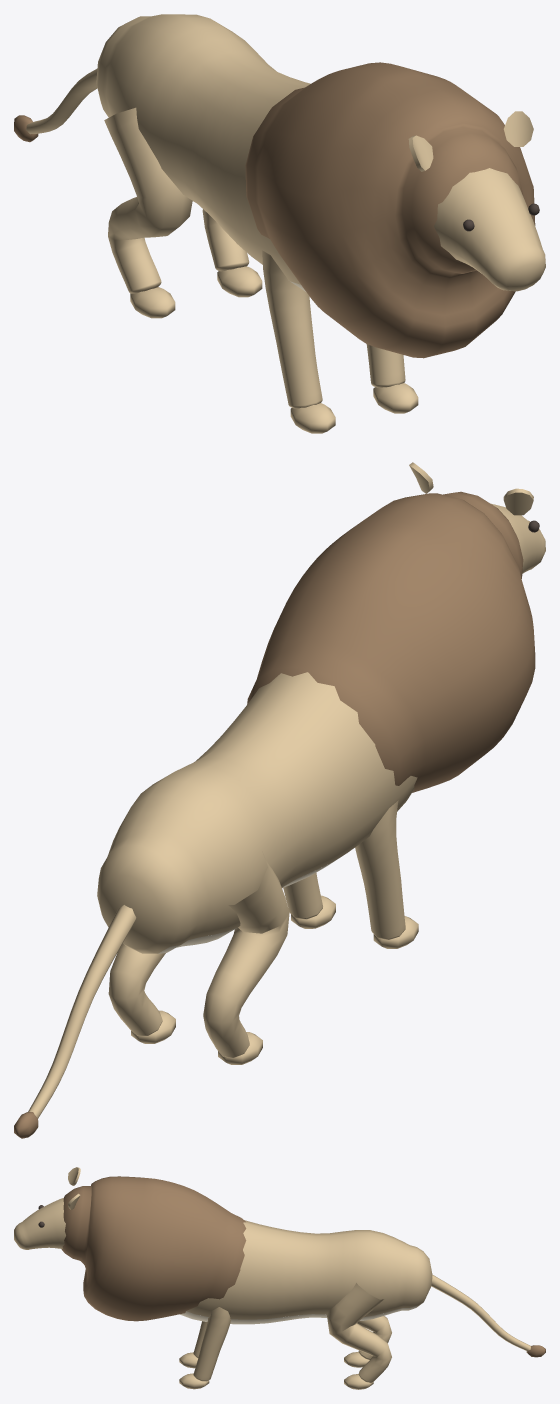
Rendered from lion.glb.
3 renders of one model, top to bottom at view 1: azimuth 30°, elevation 25°; view 2: azimuth 150°, elevation 25°; view 3: azimuth 270°, elevation 25°, orthographic. The views are drawn at different scales.
Parts seen in each view (by area): view 1: lion-male-standing; view 2: lion-male-standing; view 3: lion-male-standing.
Boxes of the visible parts, left/top/right/bottom form: lion-male-standing: left=14, top=14, right=545, bottom=433; lion-male-standing: left=14, top=462, right=545, bottom=1138; lion-male-standing: left=14, top=1167, right=545, bottom=1389.
Size of the model in its own units: 1.01 by 1.66 by 4.08.
